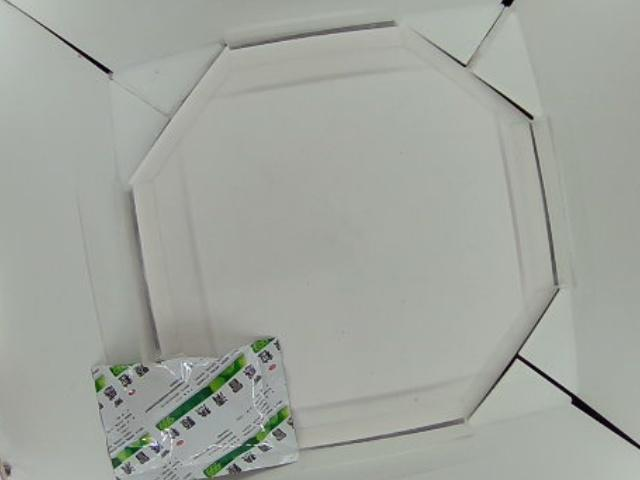Medicine: (91, 338, 300, 480)
